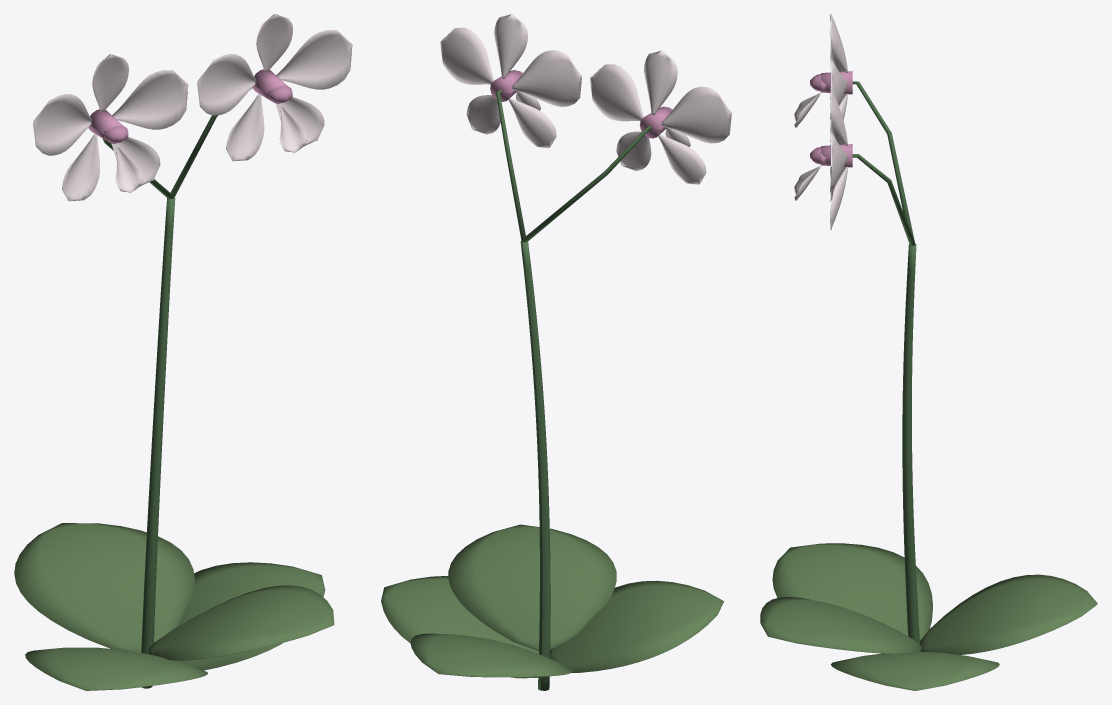
The model's file is orchid-common-v2.glb.
The picture shows the model from 3 angles, left to right: view 1: azimuth 30°, elevation 25°; view 2: azimuth 150°, elevation 25°; view 3: azimuth 270°, elevation 25°; orthographic projection. The views are drawn at different scales.
Visible parts, largest first — view 1: orchid-common-v2-leaf, orchid-common-v2-petal, orchid-common-v2-stem, orchid-common-v2-center; view 2: orchid-common-v2-leaf, orchid-common-v2-petal, orchid-common-v2-stem, orchid-common-v2-center; view 3: orchid-common-v2-leaf, orchid-common-v2-stem, orchid-common-v2-petal, orchid-common-v2-center.
Boxes of the visible parts, bbox=[...] form: orchid-common-v2-leaf: bbox=[14, 523, 334, 690]; orchid-common-v2-petal: bbox=[33, 14, 352, 201]; orchid-common-v2-stem: bbox=[102, 87, 252, 688]; orchid-common-v2-center: bbox=[88, 69, 292, 143]; orchid-common-v2-leaf: bbox=[381, 524, 723, 678]; orchid-common-v2-petal: bbox=[440, 14, 731, 184]; orchid-common-v2-stem: bbox=[496, 89, 651, 690]; orchid-common-v2-center: bbox=[490, 70, 672, 138]; orchid-common-v2-leaf: bbox=[760, 543, 1097, 690]; orchid-common-v2-stem: bbox=[852, 81, 919, 651]; orchid-common-v2-petal: bbox=[794, 14, 847, 230]; orchid-common-v2-center: bbox=[810, 71, 852, 167].
Size of the model in its own units: 0.9988 by 1.96 by 0.9582.
